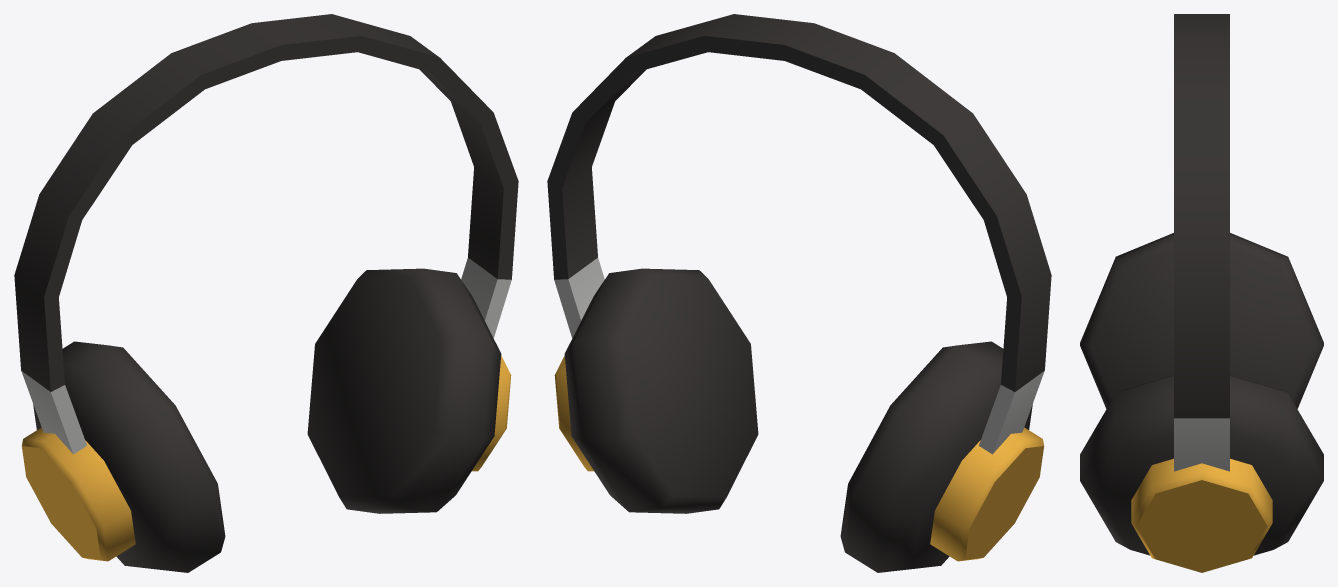
The model's file is 19_prop_headphones.FBX.
The picture shows the model from 3 angles, left to right: view 1: azimuth 30°, elevation 25°; view 2: azimuth 150°, elevation 25°; view 3: azimuth 270°, elevation 25°; orthographic projection. The views are drawn at different scales.
Visible parts, largest first — view 1: prop_headphones; view 2: prop_headphones; view 3: prop_headphones.
Part boxes in pixels (x1,y1,x2,y2): prop_headphones: (14, 14, 518, 572); prop_headphones: (547, 14, 1051, 572); prop_headphones: (1080, 14, 1323, 572).
Bounding box in the file's own units: 21.15 × 21.61 × 10.06.
